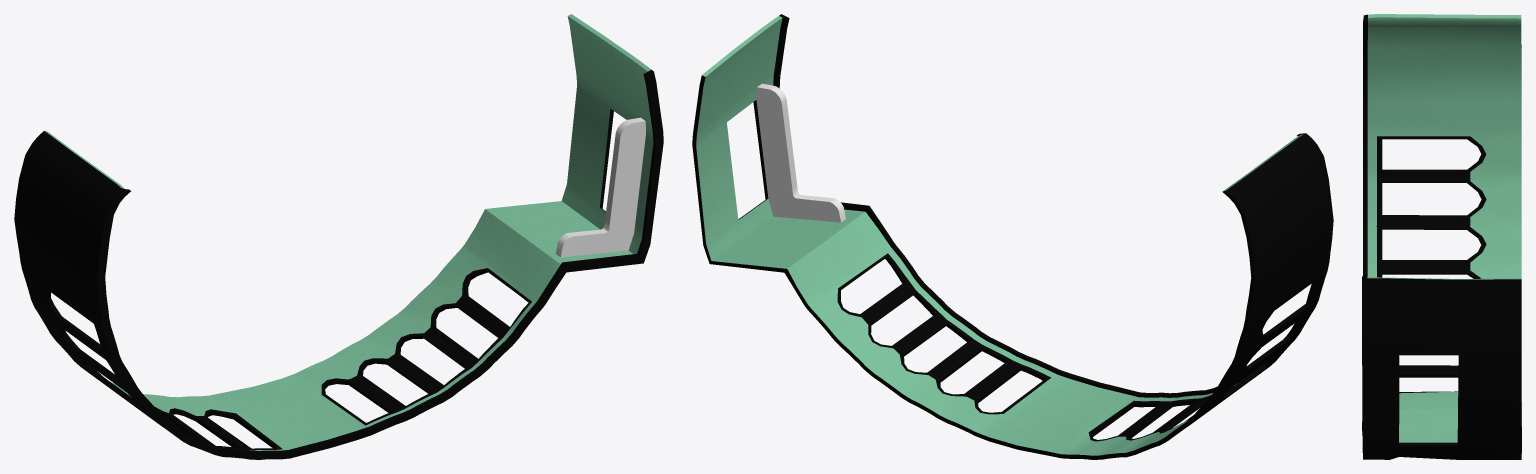
The model's file is walls.fbx.
The picture shows the model from 3 angles, left to right: view 1: azimuth 30°, elevation 25°; view 2: azimuth 150°, elevation 25°; view 3: azimuth 270°, elevation 25°; orthographic projection.
Parts seen in each view (by area): view 1: Cylinder.003; view 2: Cylinder.003; view 3: Cylinder.003.
Boxes of the visible parts, x1=… form: Cylinder.003: x1=14, y1=14, x2=663, y2=459; Cylinder.003: x1=692, y1=14, x2=1333, y2=459; Cylinder.003: x1=1362, y1=14, x2=1521, y2=459.
Bounding box in the file's own units: 700 × 1478 × 2818.
